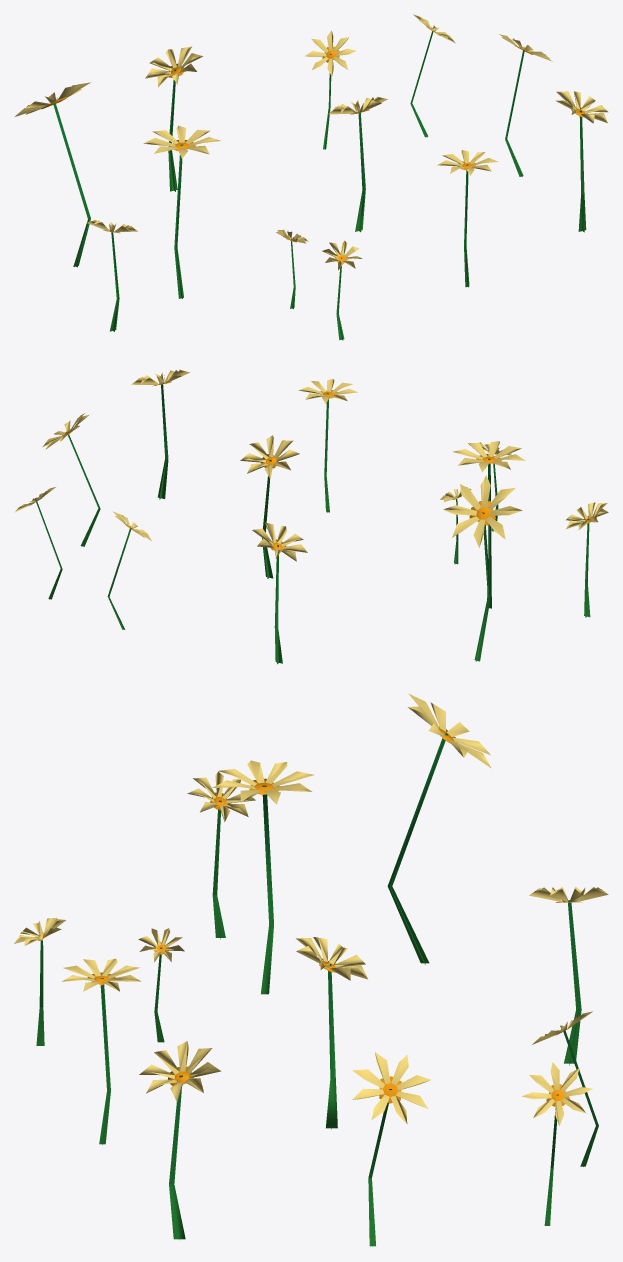
File: flower_daisy_yellow_low.glb
3 views of the same model, one above another, from view 1: azimuth 30°, elevation 25°; view 2: azimuth 150°, elevation 25°; view 3: azimuth 270°, elevation 25° (orthographic). The views are drawn at different scales.
Visible parts, largest first — view 1: Flower 4_4_A; view 2: Flower 4_4_A; view 3: Flower 4_4_A.
Part boxes in pixels (<box>): Flower 4_4_A: <box>15,14,608,340</box>; Flower 4_4_A: <box>14,369,608,664</box>; Flower 4_4_A: <box>14,693,608,1246</box>.
Size of the model in its own units: 0.6073 by 0.2104 by 0.4454.
Materials: 1 (1 with a texture image).
